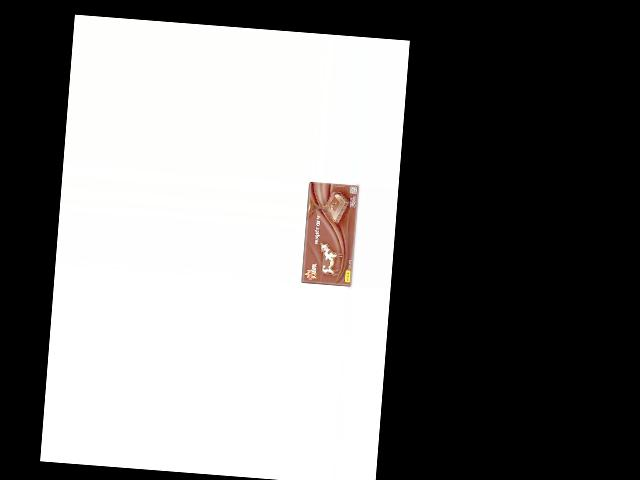chocolate: (300, 182, 359, 289)
